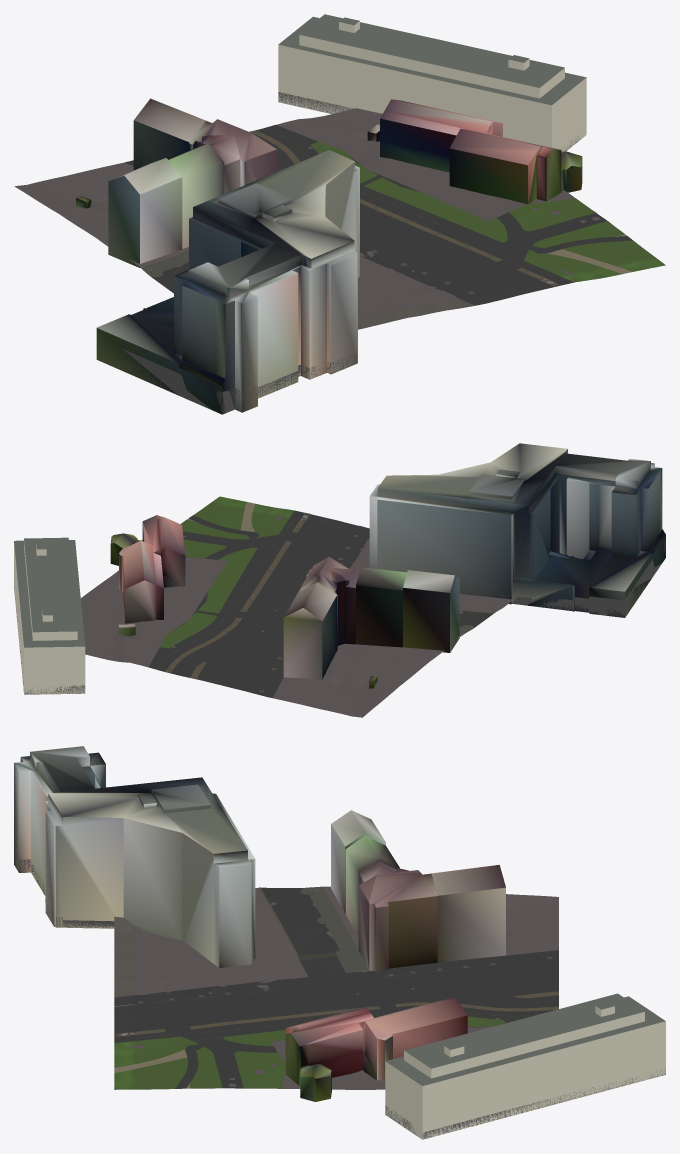
3 renders of one model, top to bottom at view 1: azimuth 30°, elevation 25°; view 2: azimuth 150°, elevation 25°; view 3: azimuth 270°, elevation 25°, orthographic. The views are drawn at different scales.
Parts seen in each view (by area): view 1: c_m11_m10; view 2: c_m11_m10; view 3: c_m11_m10.
Part boxes in pixels (bbox=[...]): c_m11_m10: bbox=[14, 14, 665, 414]; c_m11_m10: bbox=[14, 443, 665, 717]; c_m11_m10: bbox=[14, 746, 665, 1139].
Bounding box in the file's own units: 192 × 42.48 × 188.
